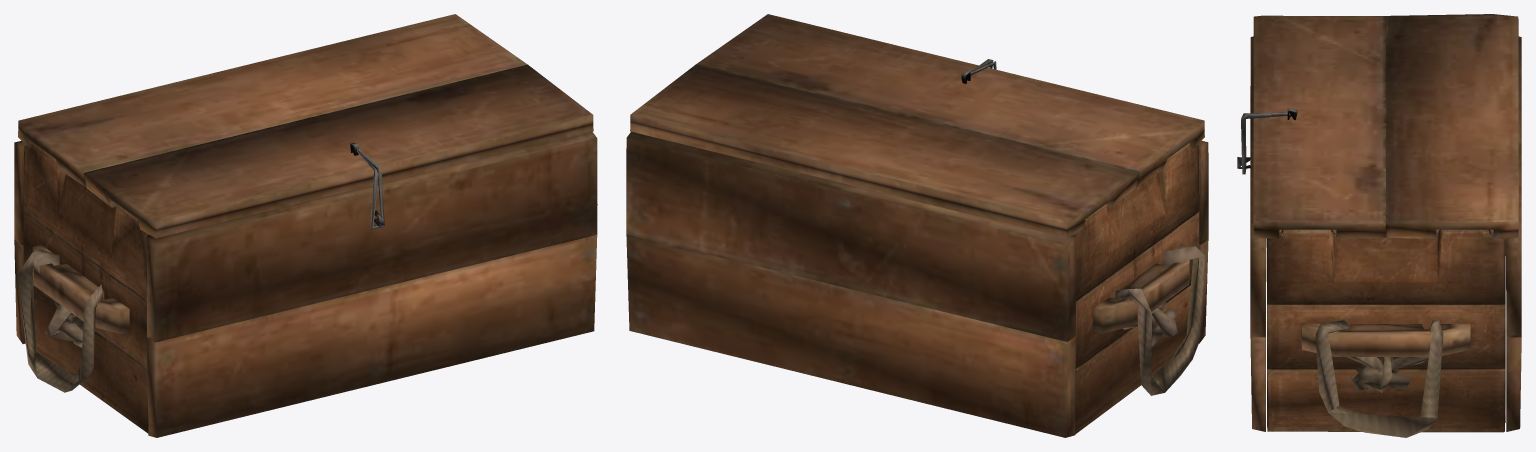
File: crate.glb
The picture shows the model from 3 angles, left to right: view 1: azimuth 30°, elevation 25°; view 2: azimuth 150°, elevation 25°; view 3: azimuth 270°, elevation 25°; orthographic projection. The views are drawn at different scales.
Visible parts, largest first — view 1: wooden_crate_01_lid; view 2: wooden_crate_01_lid; view 3: wooden_crate_01_lid.
Part boxes in pixels (x1,y1,x2,y2): wooden_crate_01_lid: (14,14,597,437); wooden_crate_01_lid: (626,14,1208,437); wooden_crate_01_lid: (1237,14,1521,437).
Size of the model in its own units: 0.8245 by 0.3469 by 0.4043.
Materials: 1 (1 with a texture image).
